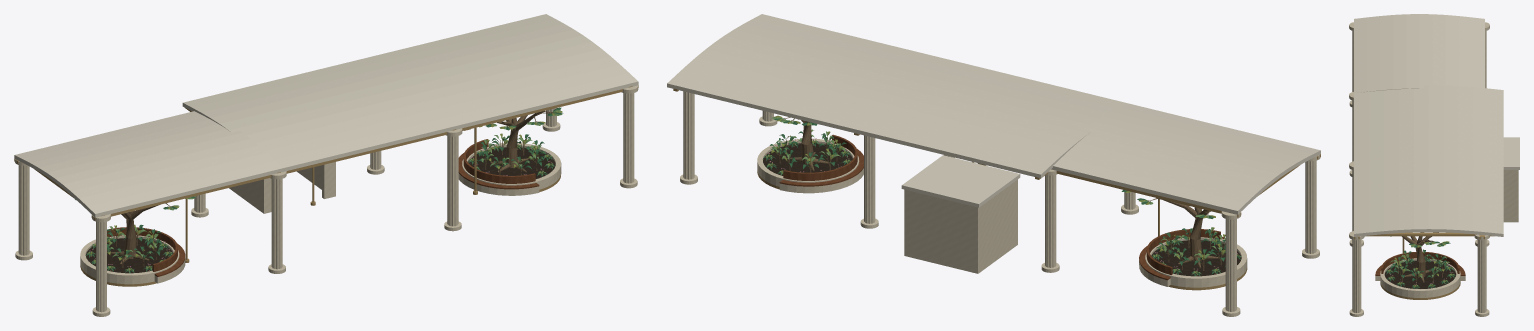
Rendered from G7_Completion_R007B_G7C7_D12_ForeGardenCourt.glb.
3 renders of one model, left to right at view 1: azimuth 30°, elevation 25°; view 2: azimuth 150°, elevation 25°; view 3: azimuth 270°, elevation 25°, orthographic. The views are drawn at different scales.
Parts seen in each view (by area): view 1: G7C7_D12_ForeGardenCourt_G7C7_roof_solid_roof, G7C7_D12_ForeGardenCourt_G7C7_stone_solid_frame, G7C7_D12_ForeGardenCourt_G7C7_soil_solid_planter, G7C7_D12_ForeGardenCourt_G7C7_wood_solid_furniture, G7C7_D12_ForeGardenCourt_G7C7_stone_solid_planter, G7C7_D12_ForeGardenCourt_G7C7_metal_solid_frame, G7C7_D12_ForeGardenCourt_G7C7_bark_solid_tree_bark, G7C7_D12_ForeGardenCourt_ASTRAEA_botanical_leaf_jade.001_vis, G7C7_D12_ForeGardenCourt_G7C7_stone_solid_furniture, G7C7_D12_ForeGardenCourt_G7C7_metal_solid_fixture, G7C7_D12_ForeGardenCourt_ASTRAEA_botanical_leaf_sage.001_vis, G7C7_D12_ForeGardenCourt_ASTRAEA_botanical_leaf_olive.001_vi; view 2: G7C7_D12_ForeGardenCourt_G7C7_roof_solid_roof, G7C7_D12_ForeGardenCourt_G7C7_stone_solid_frame, G7C7_D12_ForeGardenCourt_G7C7_soil_solid_planter, G7C7_D12_ForeGardenCourt_G7C7_wood_solid_furniture, G7C7_D12_ForeGardenCourt_G7C7_stone_solid_planter, G7C7_D12_ForeGardenCourt_G7C7_bark_solid_tree_bark, G7C7_D12_ForeGardenCourt_ASTRAEA_botanical_leaf_jade.001_vis, G7C7_D12_ForeGardenCourt_G7C7_stone_solid_furniture, G7C7_D12_ForeGardenCourt_G7C7_metal_solid_frame, G7C7_D12_ForeGardenCourt_ASTRAEA_botanical_leaf_sage.001_vis, G7C7_D12_ForeGardenCourt_ASTRAEA_botanical_leaf_olive.001_vi, G7C7_D12_ForeGardenCourt_ASTRAEA_botanical_bark.001_visual_f; view 3: G7C7_D12_ForeGardenCourt_G7C7_roof_solid_roof, G7C7_D12_ForeGardenCourt_G7C7_stone_solid_frame, G7C7_D12_ForeGardenCourt_G7C7_soil_solid_planter, G7C7_D12_ForeGardenCourt_G7C7_stone_solid_planter, G7C7_D12_ForeGardenCourt_G7C7_wood_solid_furniture, G7C7_D12_ForeGardenCourt_G7C7_bark_solid_tree_bark, G7C7_D12_ForeGardenCourt_G7C7_metal_solid_frame, G7C7_D12_ForeGardenCourt_ASTRAEA_botanical_leaf_jade.001_vis, G7C7_D12_ForeGardenCourt_G7C7_metal_solid_planter, G7C7_D12_ForeGardenCourt_ASTRAEA_botanical_leaf_sage.001_vis, G7C7_D12_ForeGardenCourt_ASTRAEA_botanical_leaf_jade.002_vis, G7C7_D12_ForeGardenCourt_ASTRAEA_botanical_leaf_olive.001_vi (+1 smaller).
Boxes of the visible parts, x1,y1,x2,y2 form: G7C7_D12_ForeGardenCourt_G7C7_roof_solid_roof: (14, 14, 638, 217); G7C7_D12_ForeGardenCourt_G7C7_stone_solid_frame: (15, 85, 638, 316); G7C7_D12_ForeGardenCourt_G7C7_soil_solid_planter: (85, 147, 555, 273); G7C7_D12_ForeGardenCourt_G7C7_wood_solid_furniture: (107, 139, 539, 276); G7C7_D12_ForeGardenCourt_G7C7_stone_solid_planter: (80, 142, 561, 284); G7C7_D12_ForeGardenCourt_G7C7_metal_solid_frame: (14, 85, 638, 220); G7C7_D12_ForeGardenCourt_G7C7_bark_solid_tree_bark: (110, 111, 553, 264); G7C7_D12_ForeGardenCourt_ASTRAEA_botanical_leaf_jade.001_vis: (107, 134, 545, 259); G7C7_D12_ForeGardenCourt_G7C7_stone_solid_furniture: (154, 173, 539, 283); G7C7_D12_ForeGardenCourt_G7C7_metal_solid_fixture: (185, 127, 477, 262); G7C7_D12_ForeGardenCourt_ASTRAEA_botanical_leaf_sage.001_vis: (107, 135, 541, 257); G7C7_D12_ForeGardenCourt_ASTRAEA_botanical_leaf_olive.001_vi: (107, 133, 543, 260); G7C7_D12_ForeGardenCourt_G7C7_roof_solid_roof: (667, 14, 1320, 214); G7C7_D12_ForeGardenCourt_G7C7_stone_solid_frame: (680, 91, 1320, 316); G7C7_D12_ForeGardenCourt_G7C7_soil_solid_planter: (763, 143, 1241, 276); G7C7_D12_ForeGardenCourt_G7C7_wood_solid_furniture: (779, 134, 1224, 280); G7C7_D12_ForeGardenCourt_G7C7_stone_solid_planter: (757, 138, 1247, 287); G7C7_D12_ForeGardenCourt_G7C7_bark_solid_tree_bark: (783, 117, 1218, 268); G7C7_D12_ForeGardenCourt_ASTRAEA_botanical_leaf_jade.001_vis: (770, 131, 1225, 265); G7C7_D12_ForeGardenCourt_G7C7_stone_solid_furniture: (779, 168, 1170, 286); G7C7_D12_ForeGardenCourt_G7C7_metal_solid_frame: (673, 88, 1320, 217); G7C7_D12_ForeGardenCourt_ASTRAEA_botanical_leaf_sage.001_vis: (770, 129, 1225, 258); G7C7_D12_ForeGardenCourt_ASTRAEA_botanical_leaf_olive.001_vi: (771, 130, 1225, 263); G7C7_D12_ForeGardenCourt_ASTRAEA_botanical_bark.001_visual_f: (777, 138, 1224, 270); G7C7_D12_ForeGardenCourt_G7C7_roof_solid_roof: (1354, 14, 1519, 236); G7C7_D12_ForeGardenCourt_G7C7_stone_solid_frame: (1349, 22, 1518, 316); G7C7_D12_ForeGardenCourt_G7C7_soil_solid_planter: (1384, 260, 1456, 288); G7C7_D12_ForeGardenCourt_G7C7_stone_solid_planter: (1380, 258, 1460, 297); G7C7_D12_ForeGardenCourt_G7C7_wood_solid_furniture: (1375, 252, 1465, 275); G7C7_D12_ForeGardenCourt_G7C7_bark_solid_tree_bark: (1402, 232, 1440, 282); G7C7_D12_ForeGardenCourt_G7C7_metal_solid_frame: (1354, 232, 1494, 239); G7C7_D12_ForeGardenCourt_ASTRAEA_botanical_leaf_jade.001_vis: (1390, 249, 1449, 281); G7C7_D12_ForeGardenCourt_G7C7_metal_solid_planter: (1380, 282, 1460, 299); G7C7_D12_ForeGardenCourt_ASTRAEA_botanical_leaf_sage.001_vis: (1390, 254, 1449, 277); G7C7_D12_ForeGardenCourt_ASTRAEA_botanical_leaf_jade.002_vis: (1386, 260, 1455, 288); G7C7_D12_ForeGardenCourt_ASTRAEA_botanical_leaf_olive.001_vi: (1394, 252, 1447, 279).
Size of the model in its own units: 27.22 by 5.19 by 9.12.
19 materials, 18 textured.
